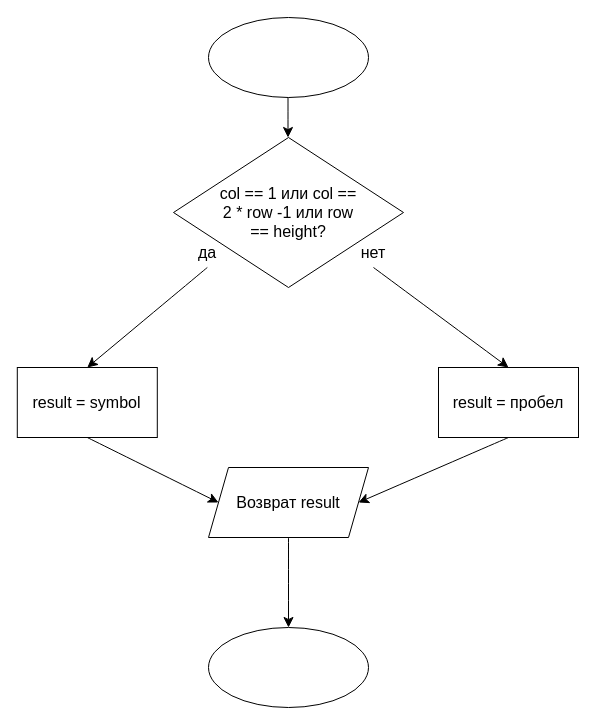
Some shapes in this 597 by 725 pixel diagram are drawn without their labels. Here are the shapes that lost their labels. From the top down, the centre of each, then its label:
At point (288, 57): "Начало".
At point (288, 667): "Конец".
